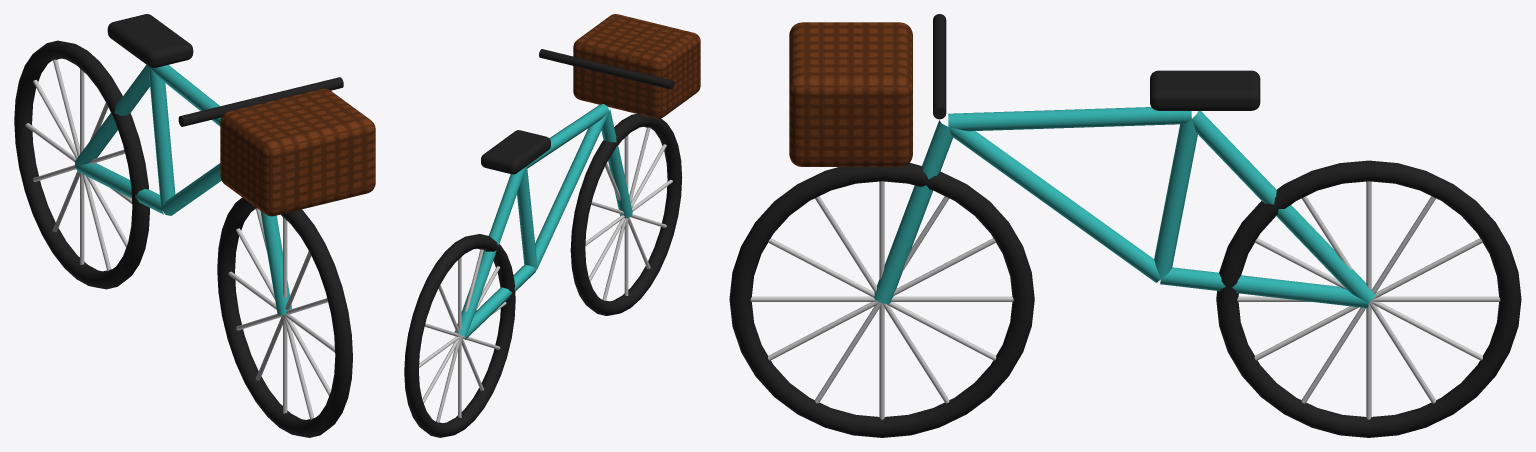
Rendered from bisiklet.glb.
The picture shows the model from 3 angles, left to right: view 1: azimuth 30°, elevation 25°; view 2: azimuth 150°, elevation 25°; view 3: azimuth 270°, elevation 25°; orthographic projection. The views are drawn at different scales.
Visible parts, largest first — view 1: bisiklet, teker (×2); view 2: bisiklet, teker (×2); view 3: teker (×2), bisiklet.
Boxes of the visible parts, bbox=[...] form: bisiklet: bbox=[75, 14, 375, 315]; teker (×2): bbox=[14, 40, 352, 437]; bisiklet: bbox=[454, 14, 700, 339]; teker (×2): bbox=[404, 114, 682, 437]; teker (×2): bbox=[729, 160, 1521, 437]; bisiklet: bbox=[789, 14, 1375, 308].
Bounding box in the file's own units: 0.5 × 0.965 × 1.79.
4 materials, 1 textured.
